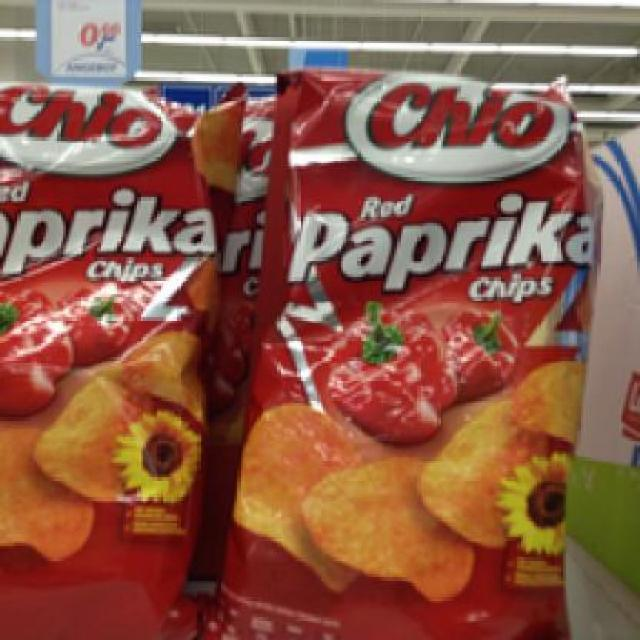Chips: (232, 68, 588, 634), (0, 82, 237, 638)
